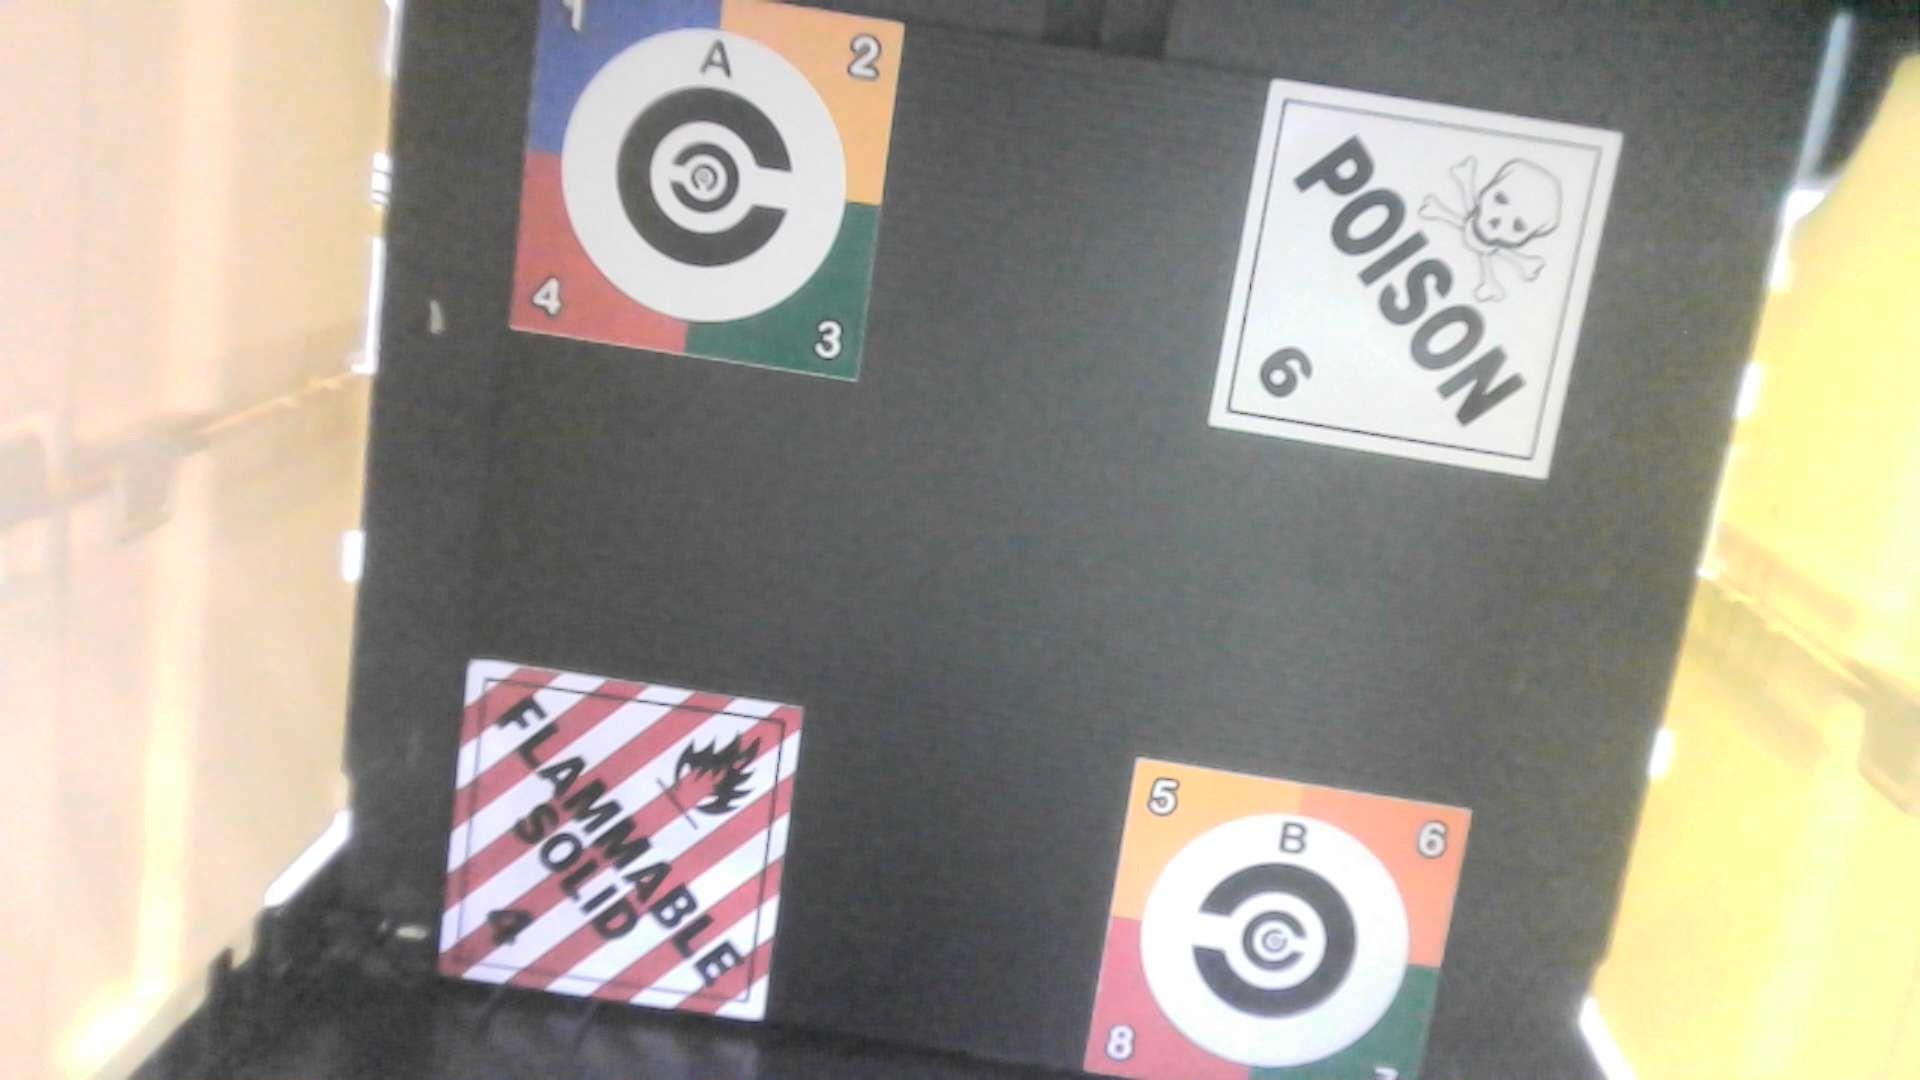flammable-solid: (439, 654, 804, 1030)
poison: (1203, 84, 1636, 479)
